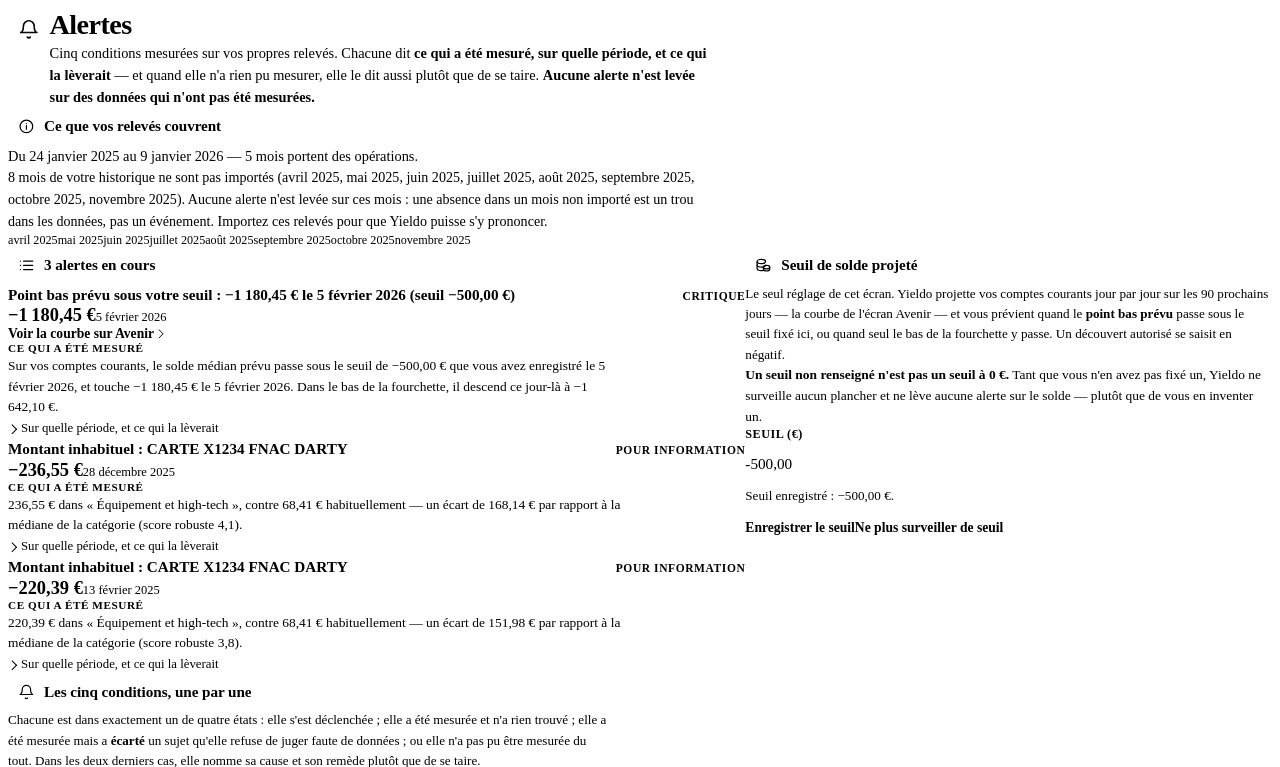
AlertsPage — the threshold › clears the floor back to « no floor » rather than to zero
Click the button "Ne plus surveiller de seuil".
click(929, 528)  # box [855,506,1003,550]
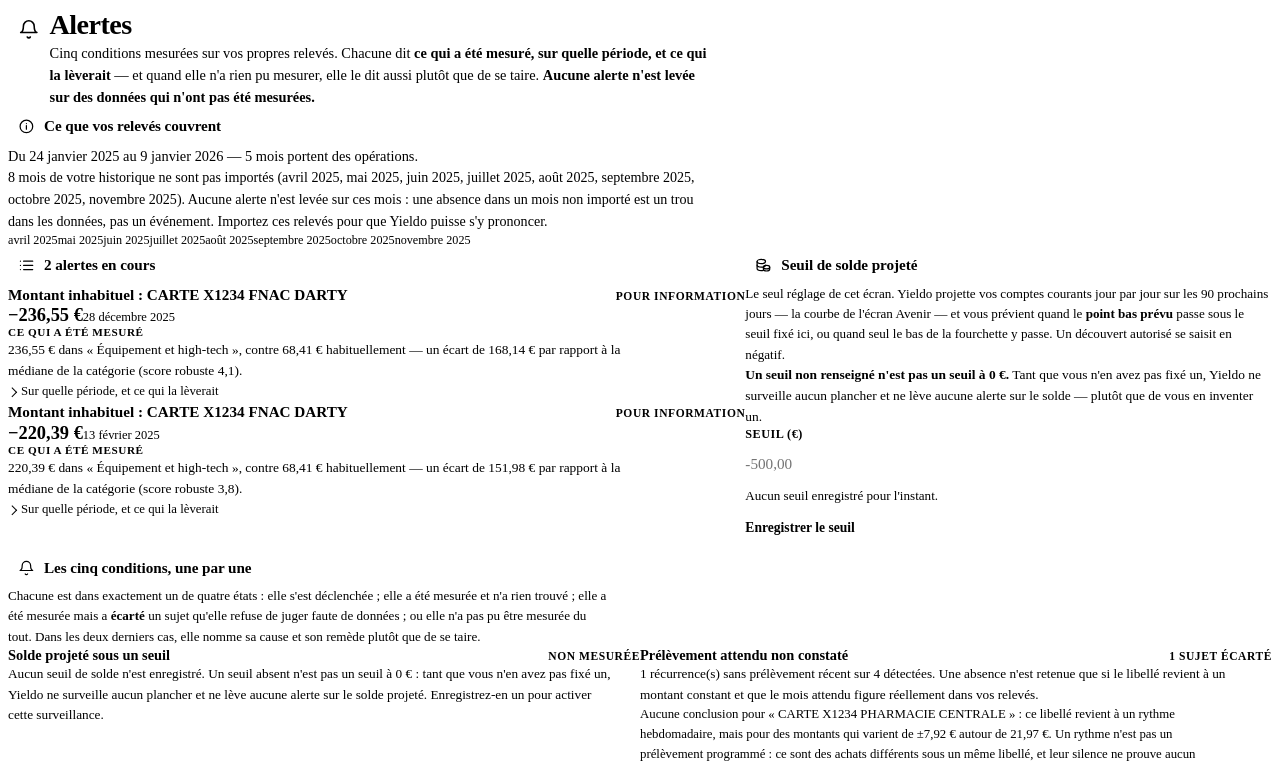
Check: the text with test id "yd-alerts-floor-state" shows "Aucun seuil enregistré", box [745,488,938,503]
